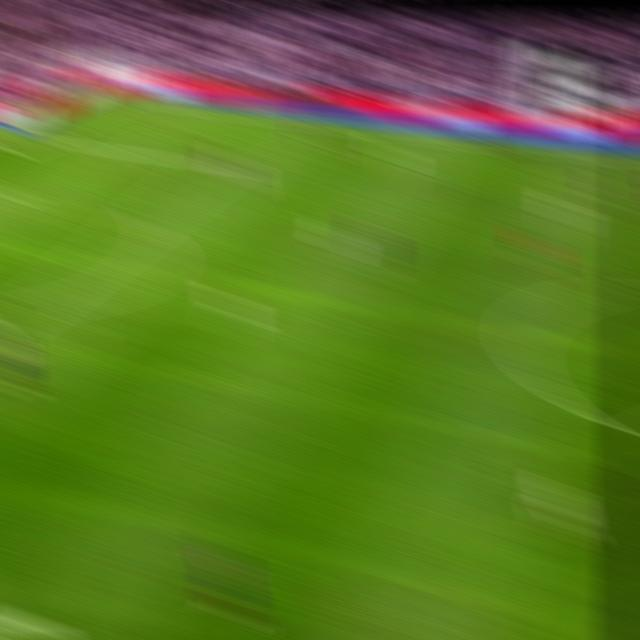bigarea_top_inner: (203, 155, 230, 177)
bigarea_top_outter: (13, 123, 44, 145)
bottom_arc_area_intersection: (19, 292, 50, 319)
corner: (92, 85, 123, 104)
halfcircle_top: (621, 271, 640, 306)
smallarea_top_inner: (0, 176, 27, 201)
top_arc_area_intersection: (132, 208, 161, 231)
